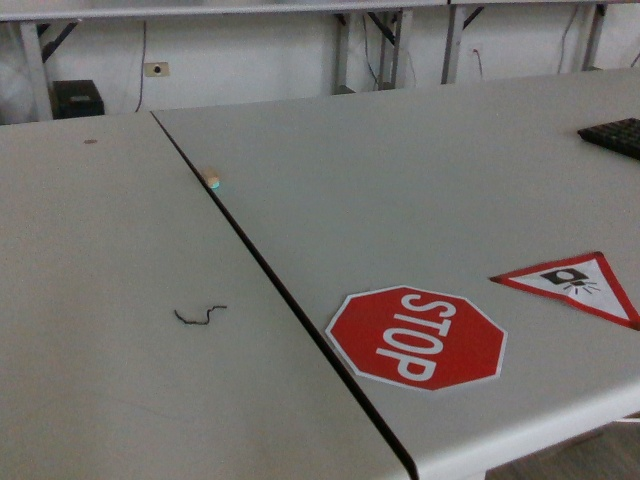camera: (491, 248, 639, 337)
stop: (324, 282, 508, 392)
